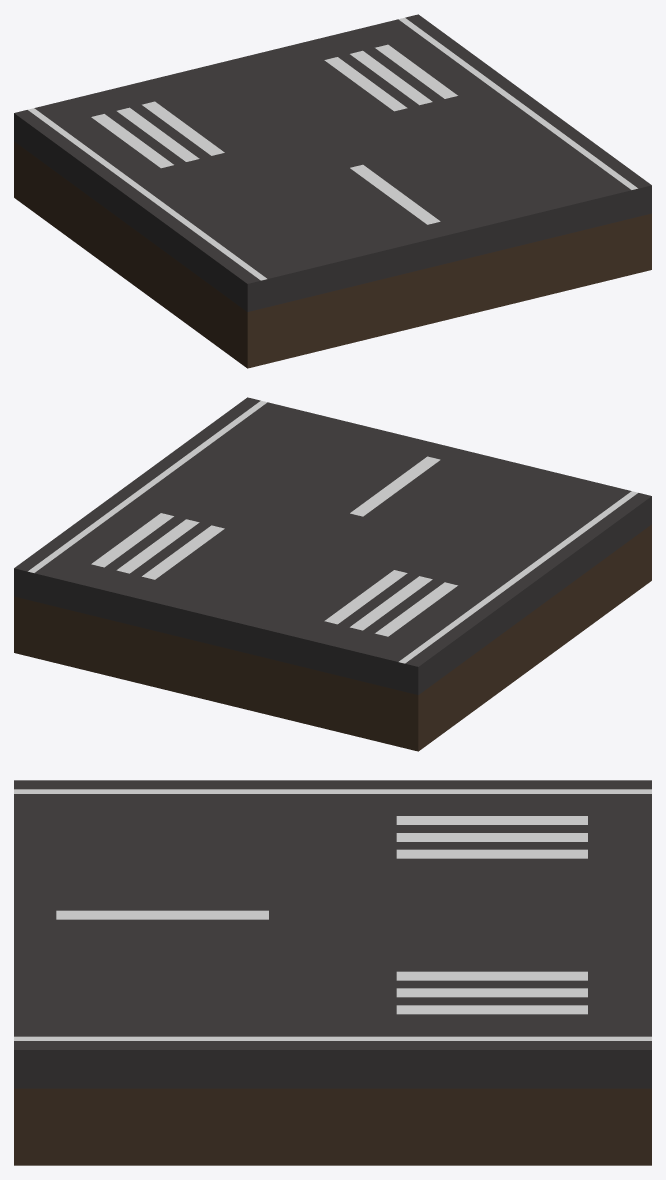
Rendered from tile-runway-main-straight.glb.
3 renders of one model, top to bottom at view 1: azimuth 30°, elevation 25°; view 2: azimuth 150°, elevation 25°; view 3: azimuth 270°, elevation 25°, orthographic. The views are drawn at different scales.
Parts seen in each view (by area): view 1: tile-runway-main-straight; view 2: tile-runway-main-straight; view 3: tile-runway-main-straight.
Part boxes in pixels (x1,y1,x2,y2): tile-runway-main-straight: (14,14,651,368); tile-runway-main-straight: (14,397,651,751); tile-runway-main-straight: (14,780,651,1165).
Size of the model in its own units: 30 by 6 by 30.
Materials: 1 (1 with a texture image).
